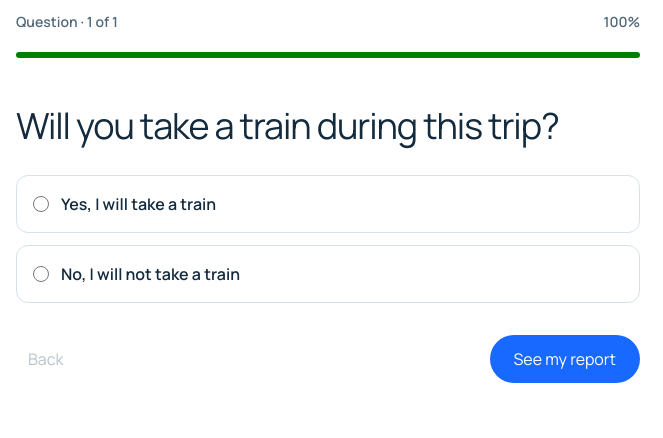
Test: Questionnaire › blocks progression until a required answer is selected
What coordinates should you click on to do the following:
click the button "See my report"
I would click on:
 (565, 359)
Its box is x1=490 y1=335 x2=640 y2=383.
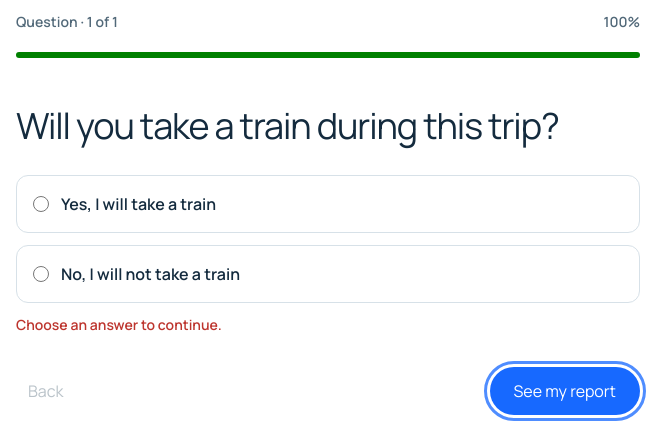
Now the text "Choose an answer to continue." is shown, box x1=16 y1=315 x2=222 y2=334
